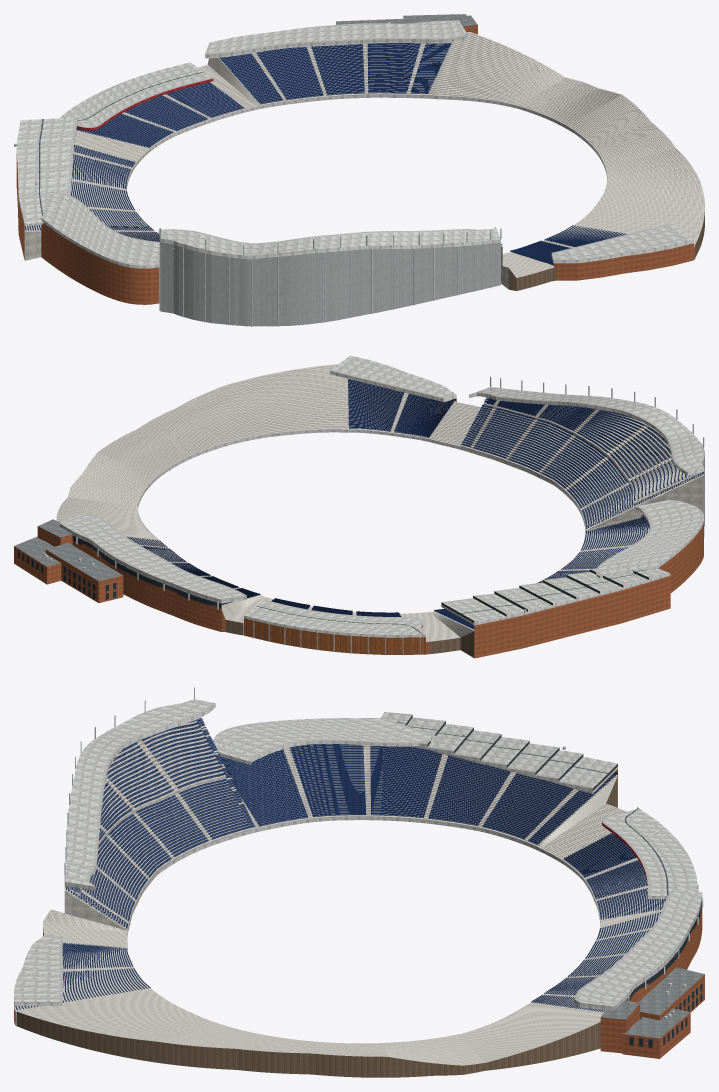
Rendered from ikonpark_1990-96.glb.
3 views of the same model, one above another, from view 1: azimuth 30°, elevation 25°; view 2: azimuth 150°, elevation 25°; view 3: azimuth 270°, elevation 25° (orthographic). The views are drawn at different scales.
Visible parts, largest first — view 1: ikonpark; view 2: ikonpark; view 3: ikonpark.
Part boxes in pixels (box(x1,y1,x2,y2)): ikonpark: box(14, 14, 704, 326); ikonpark: box(14, 355, 704, 658); ikonpark: box(14, 687, 704, 1077).
Size of the model in its own units: 240 by 32.37 by 216.
14 materials, 14 textured.
